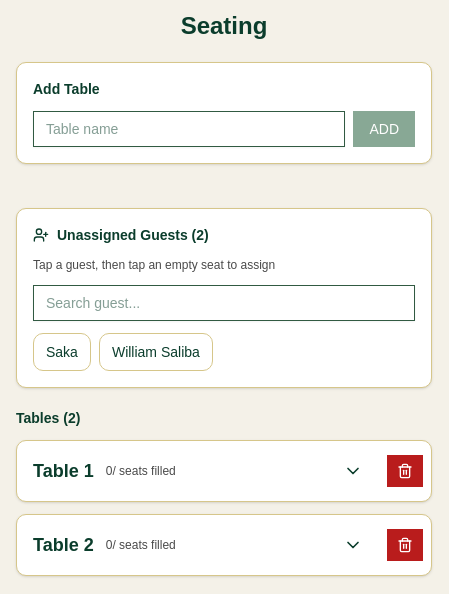
filters guests by search term
Check: the button "Saka" is shown, box [33,333,91,371]
Check: the button "William Saliba" is shown, box [99,333,213,371]
In the field labelled "Search guest": (224, 303) [33,285,415,321], type "William Saliba"
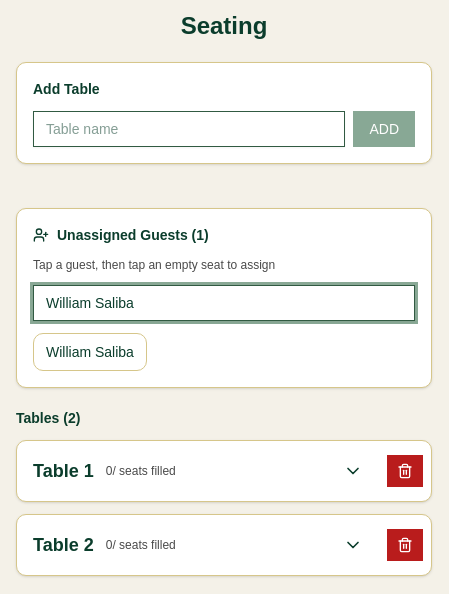
Check: the button "William Saliba" is shown, box [33,333,147,371]
Check: the button "Saka" is gone
